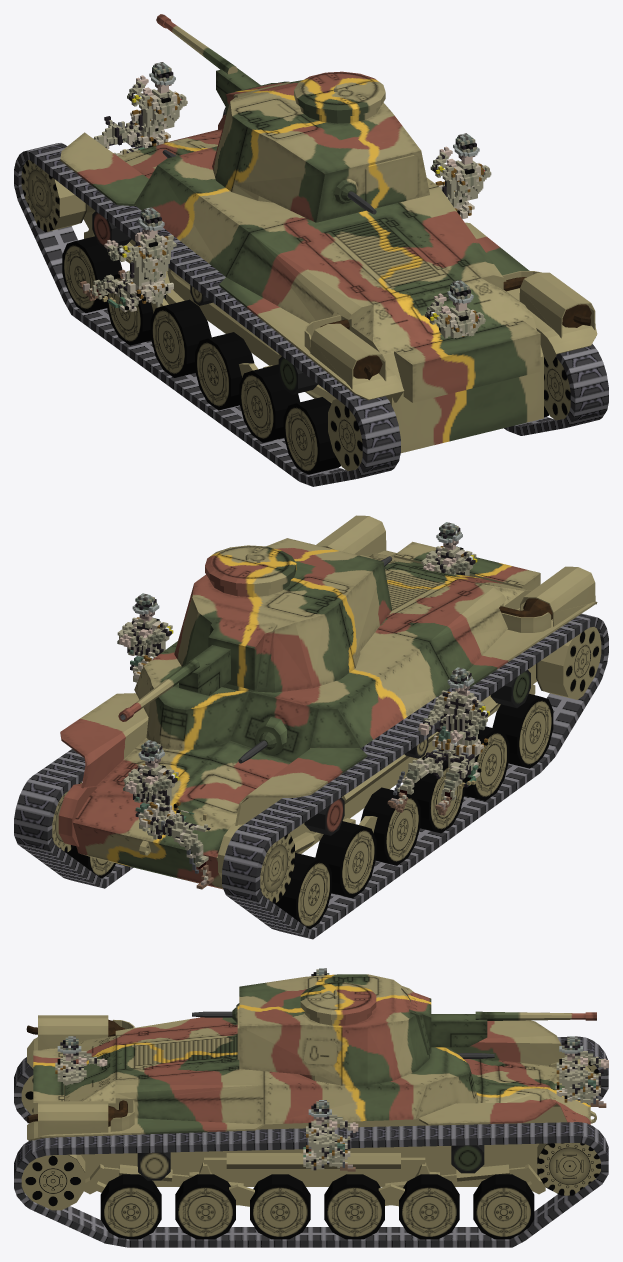
The model's file is chi_ha.glb.
3 views of the same model, one above another, from view 1: azimuth 30°, elevation 25°; view 2: azimuth 150°, elevation 25°; view 3: azimuth 270°, elevation 25° (orthographic). The views are drawn at different scales.
Visible parts, largest first — view 1: 00_chassis_chi_ha_chassis.mesh, 09_track_chi_ha_track.mesh, 03_turret_chi_ha_turret.mesh, 08_track_chi_ha_track.mesh, crew_soldier_SLOT_00_DRIVER, crew_soldier_SLOT_02_GUNNER, crew_soldier_SLOT_01_GUNNER, crew_soldier_SLOT_03_GUNNER, weapon_turret_0_chi_ha_cannon.mesh; view 2: 00_chassis_chi_ha_chassis.mesh, 09_track_chi_ha_track.mesh, 03_turret_chi_ha_turret.mesh, 08_track_chi_ha_track.mesh, crew_soldier_SLOT_00_DRIVER, crew_soldier_SLOT_02_GUNNER, crew_soldier_SLOT_01_GUNNER, crew_soldier_SLOT_03_GUNNER, weapon_turret_0_chi_ha_cannon.mesh; view 3: 00_chassis_chi_ha_chassis.mesh, 08_track_chi_ha_track.mesh, 03_turret_chi_ha_turret.mesh, crew_soldier_SLOT_01_GUNNER, crew_soldier_SLOT_02_GUNNER, 09_track_chi_ha_track.mesh, crew_soldier_SLOT_03_GUNNER, weapon_turret_0_chi_ha_cannon.mesh.
Part boxes in pixels (box(x1,y1,x2,y2)): 00_chassis_chi_ha_chassis.mesh: box(60, 114, 597, 453); 09_track_chi_ha_track.mesh: box(14, 143, 400, 486); 03_turret_chi_ha_turret.mesh: box(212, 68, 429, 222); 08_track_chi_ha_track.mesh: box(222, 107, 608, 435); crew_soldier_SLOT_00_DRIVER: box(80, 207, 176, 311); crew_soldier_SLOT_02_GUNNER: box(93, 62, 187, 155); crew_soldier_SLOT_01_GUNNER: box(430, 133, 491, 218); crew_soldier_SLOT_03_GUNNER: box(425, 280, 485, 338); weapon_turret_0_chi_ha_cannon.mesh: box(156, 14, 237, 74); 00_chassis_chi_ha_chassis.mesh: box(58, 515, 597, 889); 09_track_chi_ha_track.mesh: box(222, 613, 608, 939); 03_turret_chi_ha_turret.mesh: box(174, 538, 391, 695); 08_track_chi_ha_track.mesh: box(14, 749, 133, 888); crew_soldier_SLOT_00_DRIVER: box(387, 667, 489, 815); crew_soldier_SLOT_02_GUNNER: box(123, 740, 213, 889); crew_soldier_SLOT_01_GUNNER: box(117, 593, 173, 682); crew_soldier_SLOT_03_GUNNER: box(421, 522, 477, 575); weapon_turret_0_chi_ha_cannon.mesh: box(118, 659, 199, 721); 00_chassis_chi_ha_chassis.mesh: box(26, 1015, 596, 1206); 08_track_chi_ha_track.mesh: box(14, 1122, 608, 1247); 03_turret_chi_ha_turret.mesh: box(236, 974, 487, 1085); crew_soldier_SLOT_01_GUNNER: box(300, 1100, 358, 1171); crew_soldier_SLOT_02_GUNNER: box(555, 1036, 608, 1107); 09_track_chi_ha_track.mesh: box(14, 1036, 608, 1123); crew_soldier_SLOT_03_GUNNER: box(55, 1036, 107, 1085); weapon_turret_0_chi_ha_cannon.mesh: box(475, 1011, 596, 1020).
Bounding box in the file's own units: 4.29 × 2.97 × 7.12.
Materials: 41 (5 with a texture image).
